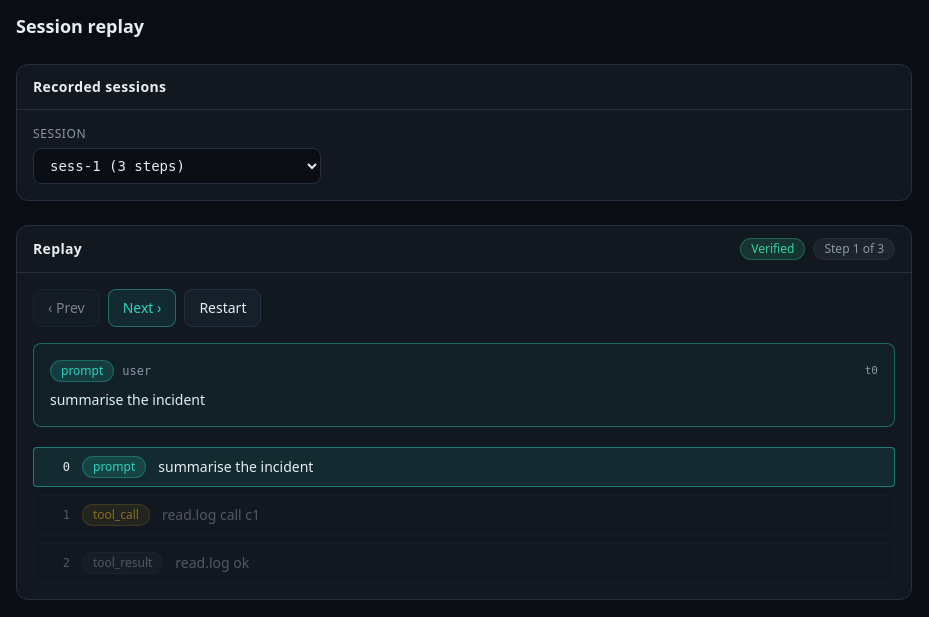
Test case: SessionReplayView › plays back step-by-step (the gate)
expect the text "Step 1 of 3" is shown: met, box [814, 238, 895, 260]
Click the button "Next ›".
click(142, 308)  # box [108, 289, 176, 327]
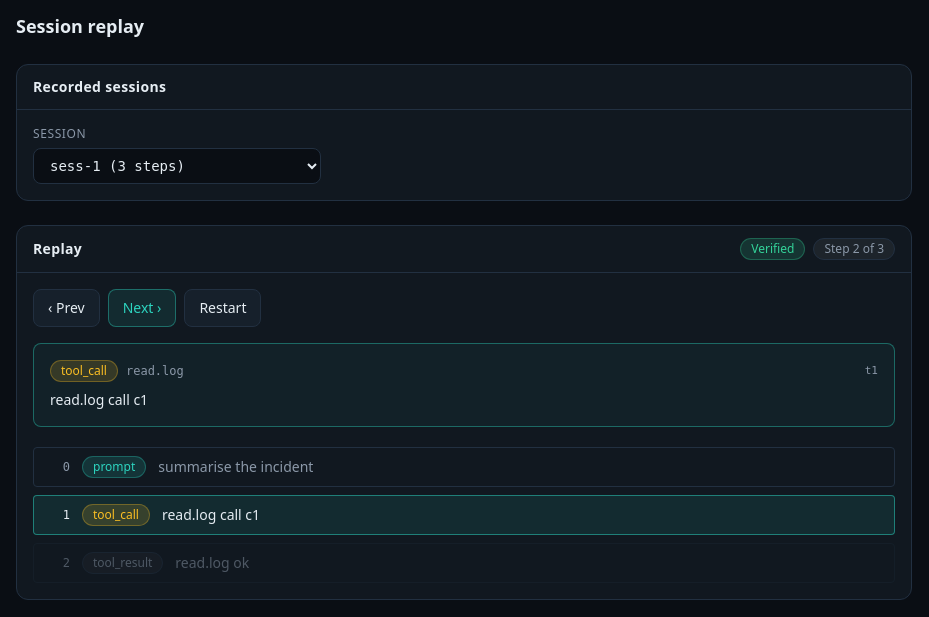
expect the text "Step 2 of 3" is shown: met, box [814, 238, 895, 260]
expect the text "read.log call c1" below "t1" is shown: met, box [50, 390, 148, 409]
Click the button "Next ›".
click(142, 308)  # box [108, 289, 176, 327]
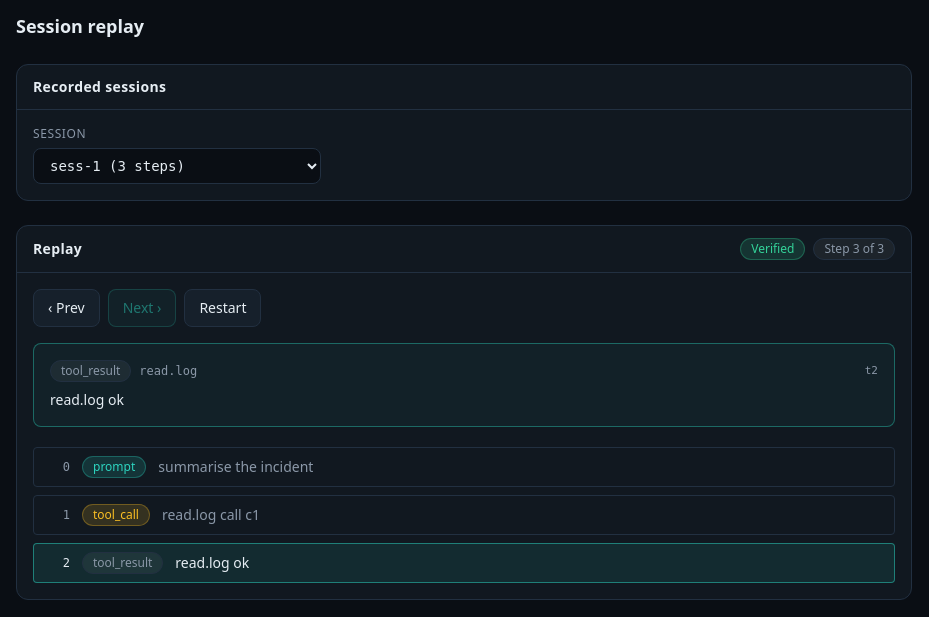
expect the text "Step 3 of 3" is shown: met, box [814, 238, 895, 260]
